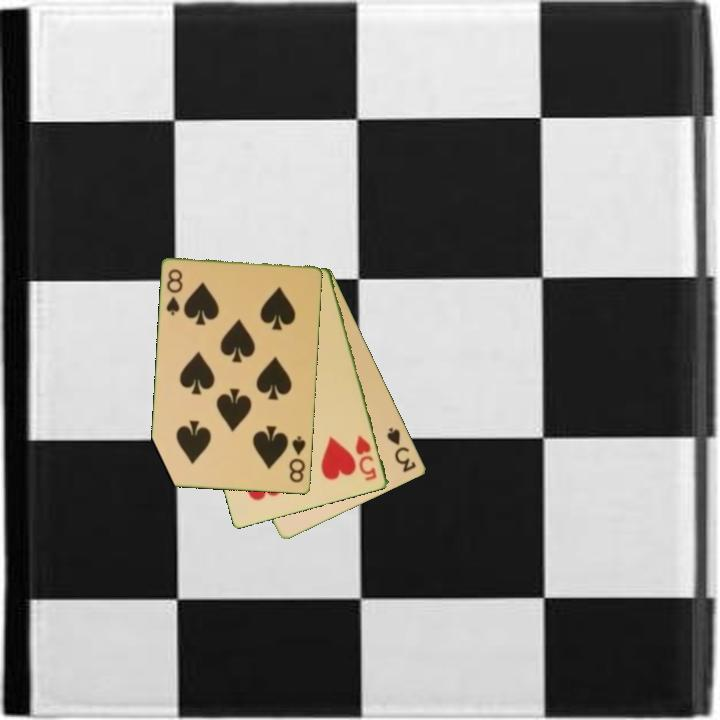3s: (384, 424, 419, 476)
5h: (352, 432, 380, 484)
8s: (286, 433, 309, 486), (163, 266, 186, 319)
